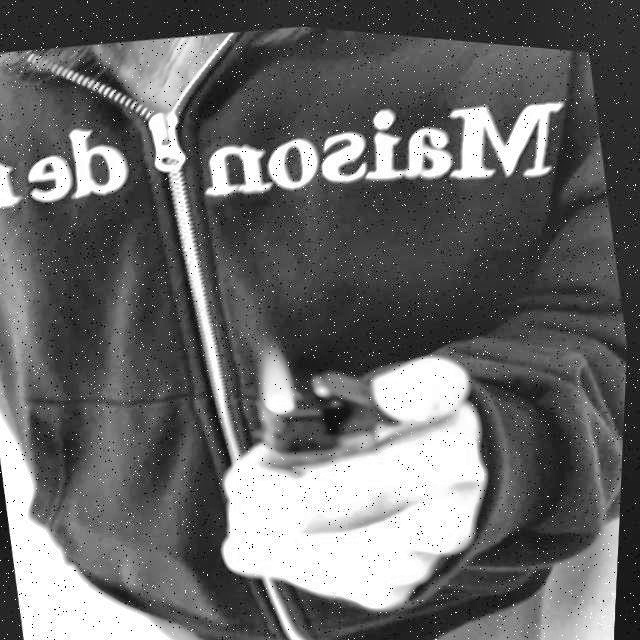Fire: (254, 327, 304, 411)
